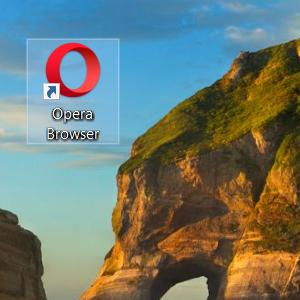opera: (43, 42, 101, 101)
